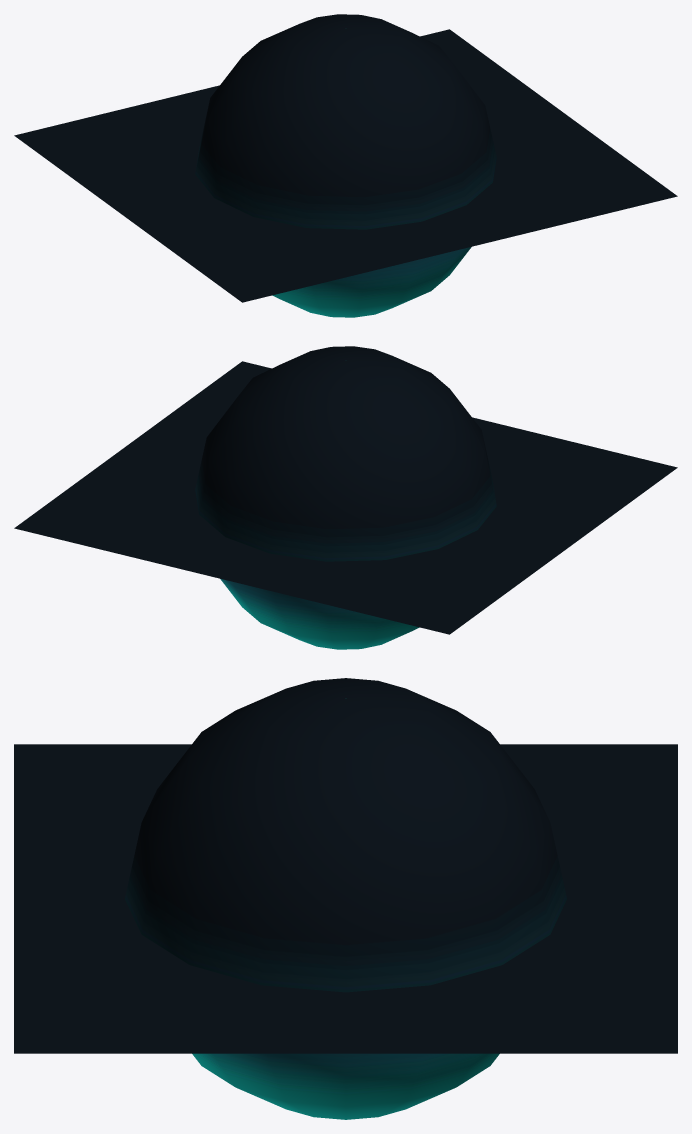
The model's file is BattleArea_Dun1070002.fbx.
3 views of the same model, one above another, from view 1: azimuth 30°, elevation 25°; view 2: azimuth 150°, elevation 25°; view 3: azimuth 270°, elevation 25° (orthographic). The views are drawn at different scales.
Visible parts, largest first — view 1: skillbg_01, skillbg_02; view 2: skillbg_01, skillbg_02; view 3: skillbg_01, skillbg_02.
Part boxes in pixels (left/top/right/bottom): skillbg_01: left=195, top=14, right=496, bottom=317; skillbg_02: left=14, top=29, right=677, bottom=302; skillbg_01: left=195, top=346, right=496, bottom=649; skillbg_02: left=14, top=361, right=677, bottom=634; skillbg_01: left=125, top=678, right=566, bottom=1119; skillbg_02: left=14, top=744, right=677, bottom=1053.
Size of the model in its own units: 341 by 206 by 309.
